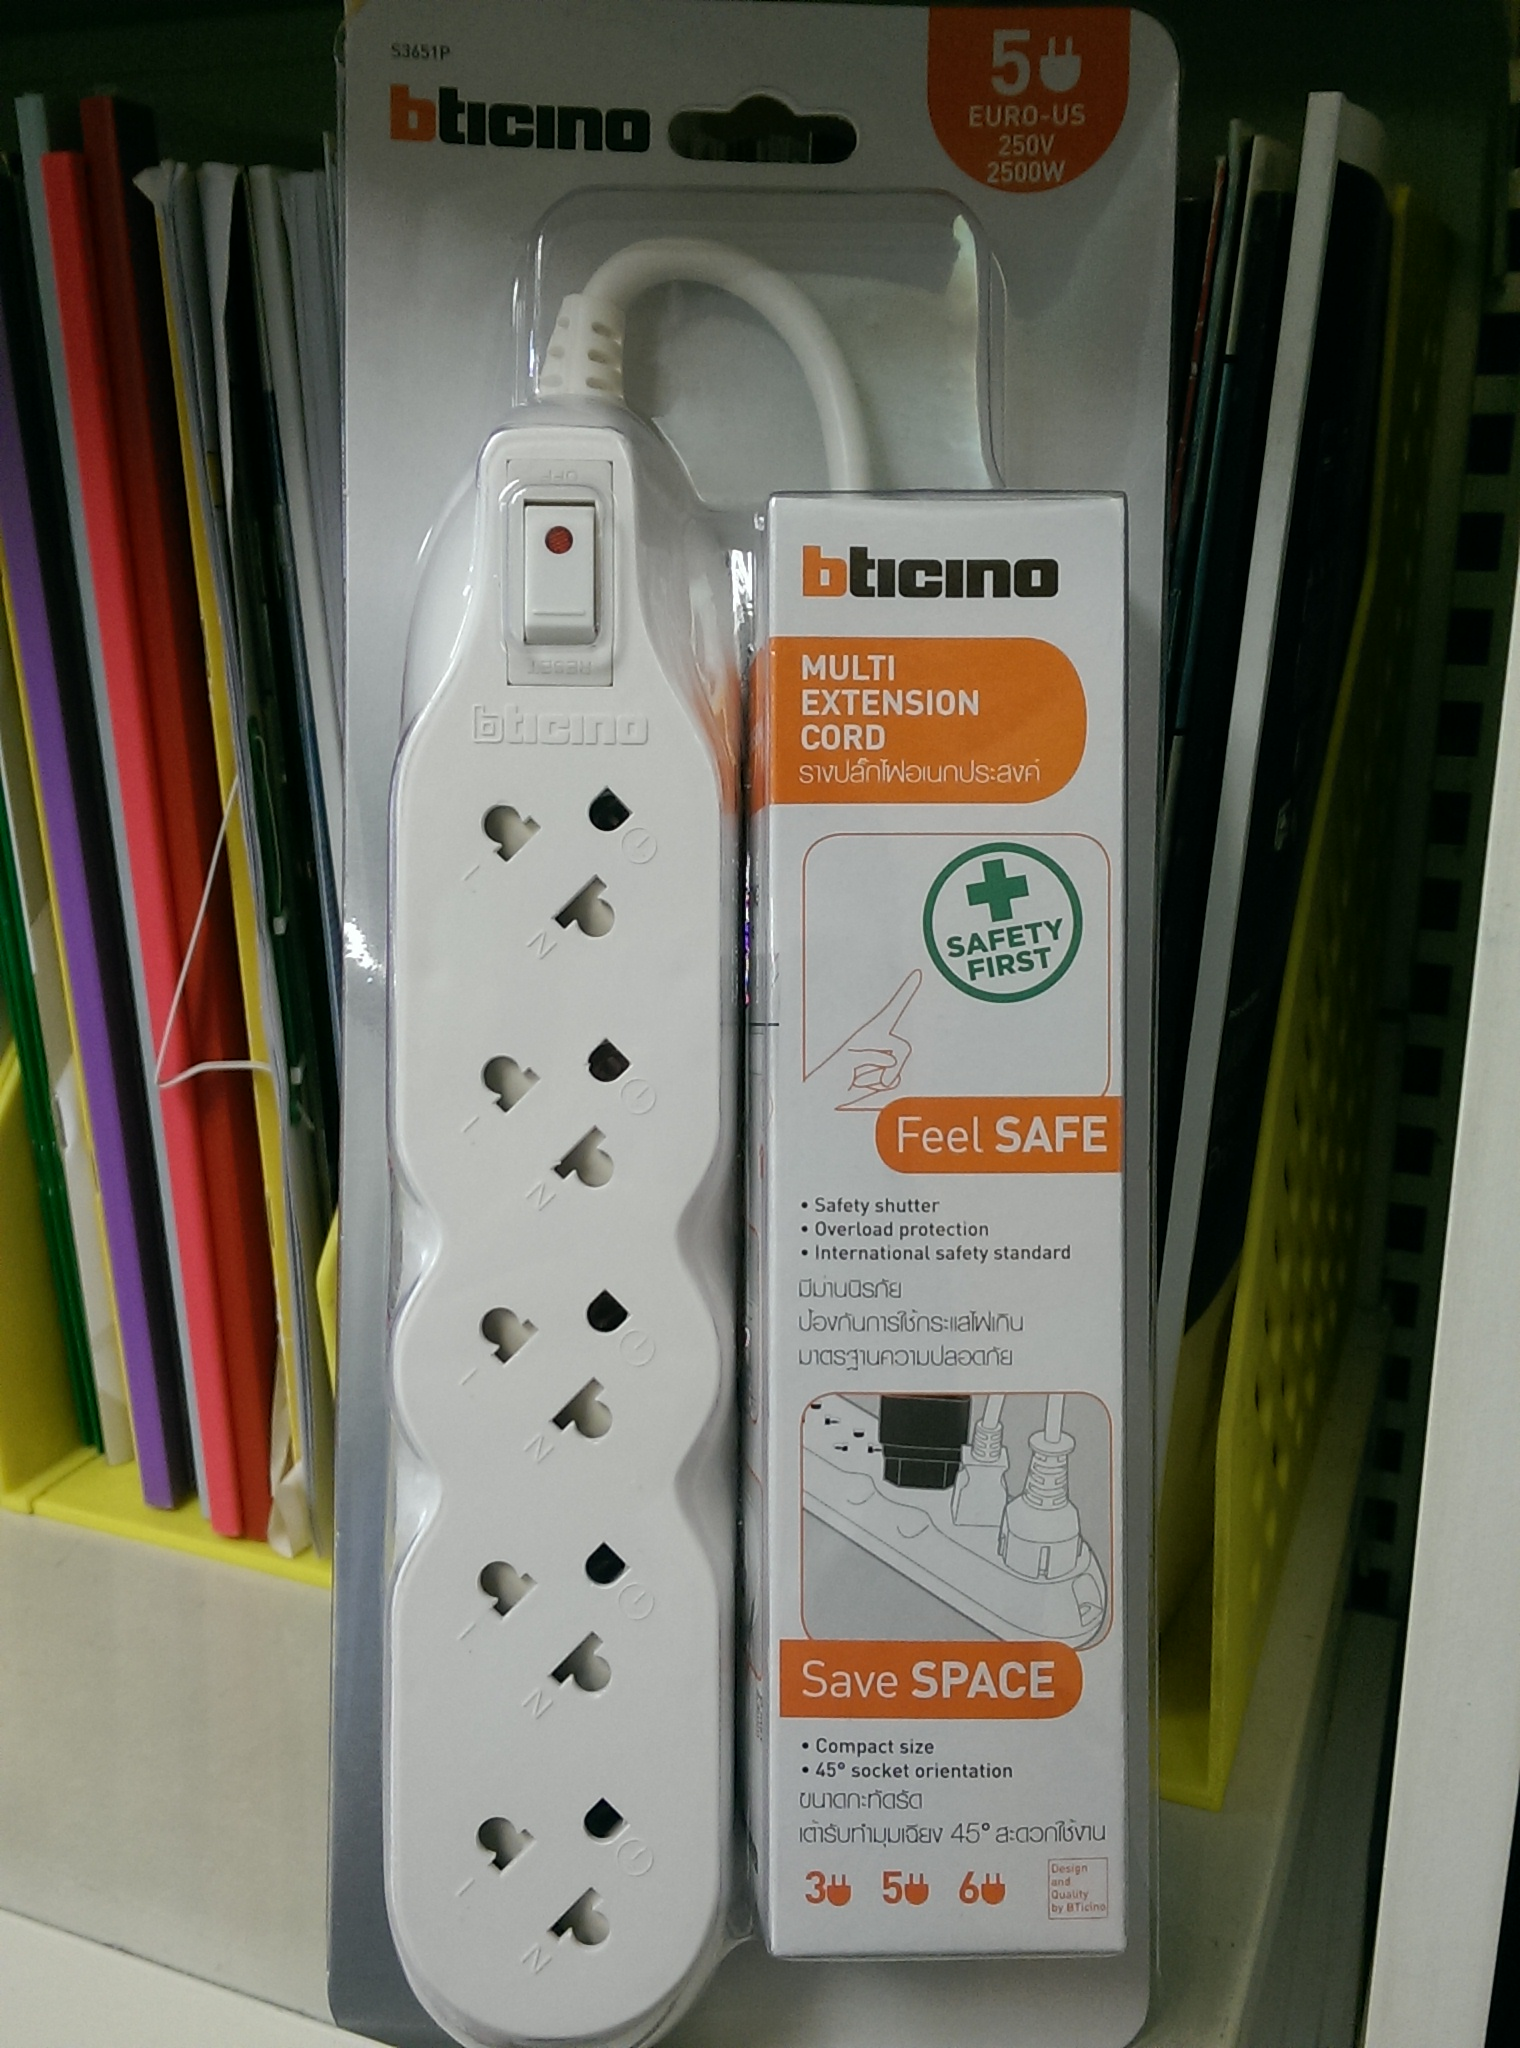Three_eye_plug: (370, 404, 771, 2048)
